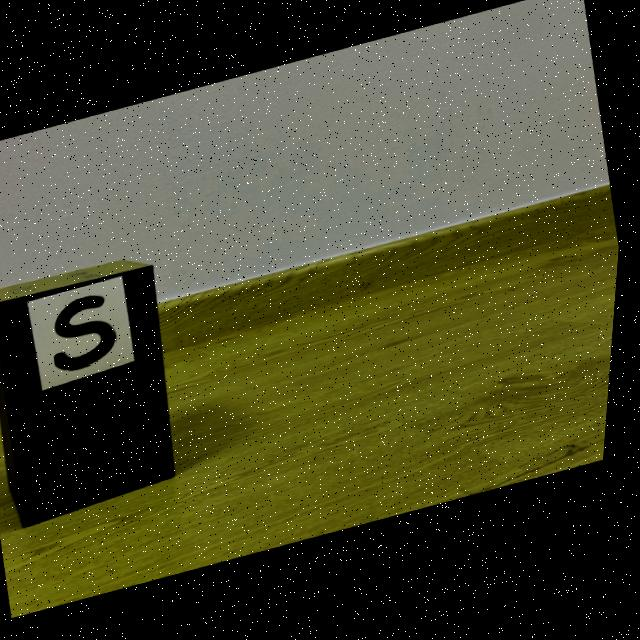S: (60, 297, 121, 371)
